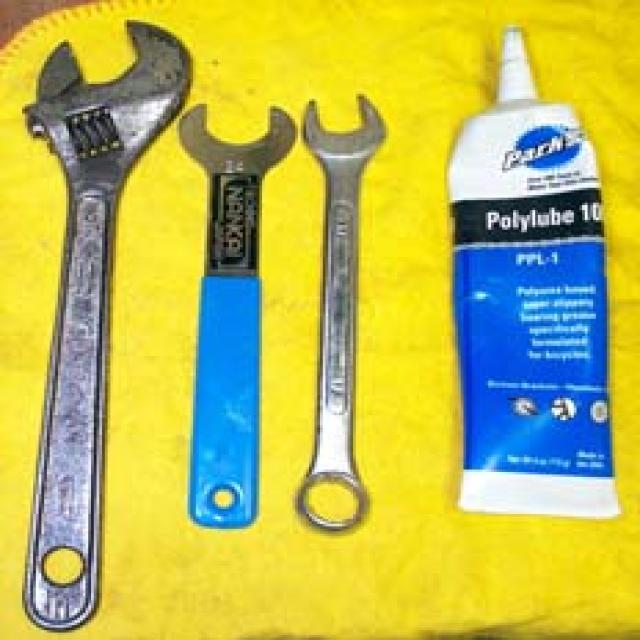wrench: (10, 10, 198, 639)
